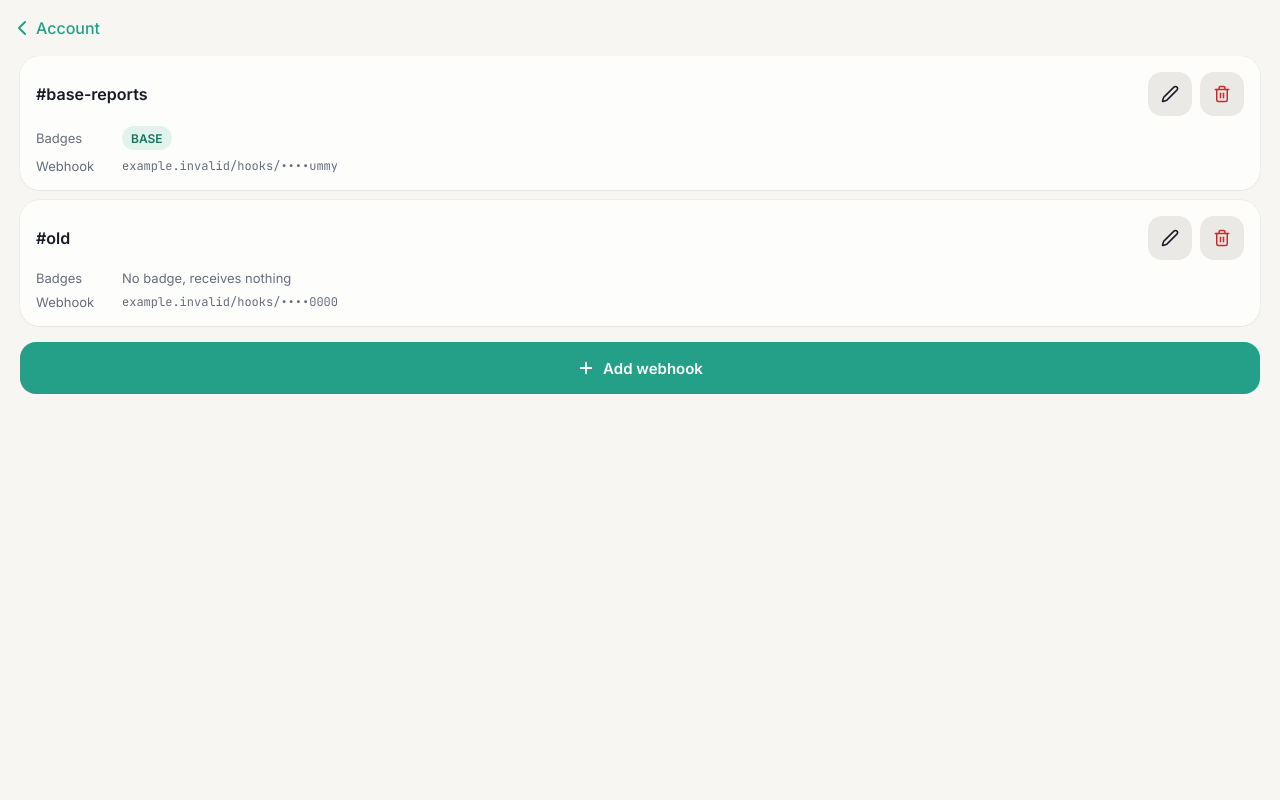
Test: the webhook sheet below md › asks for the address, the badges BASE and PSP with their lines, and a label, as the board draws them
This screenshot has width=1280, height=800.
Expected: the text "#base-reports" is shown, [36,84,148,104]
Click the button "Add webhook".
click(640, 368)  # box [20,342,1260,394]
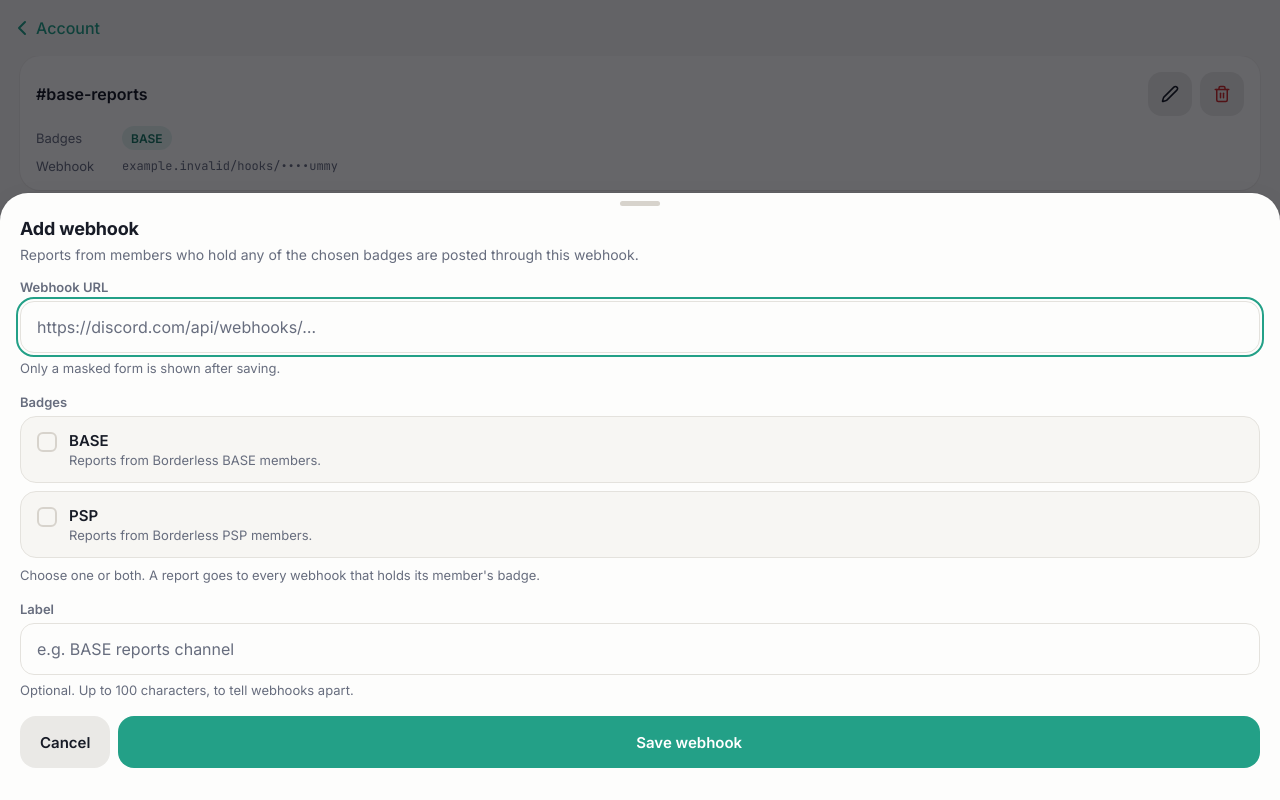
Result: the button "Cancel" is shown
Result: the button "Save webhook" is shown at [118,716,1260,768]
Click the button "Cancel".
click(65, 742)  # box [20,716,110,768]
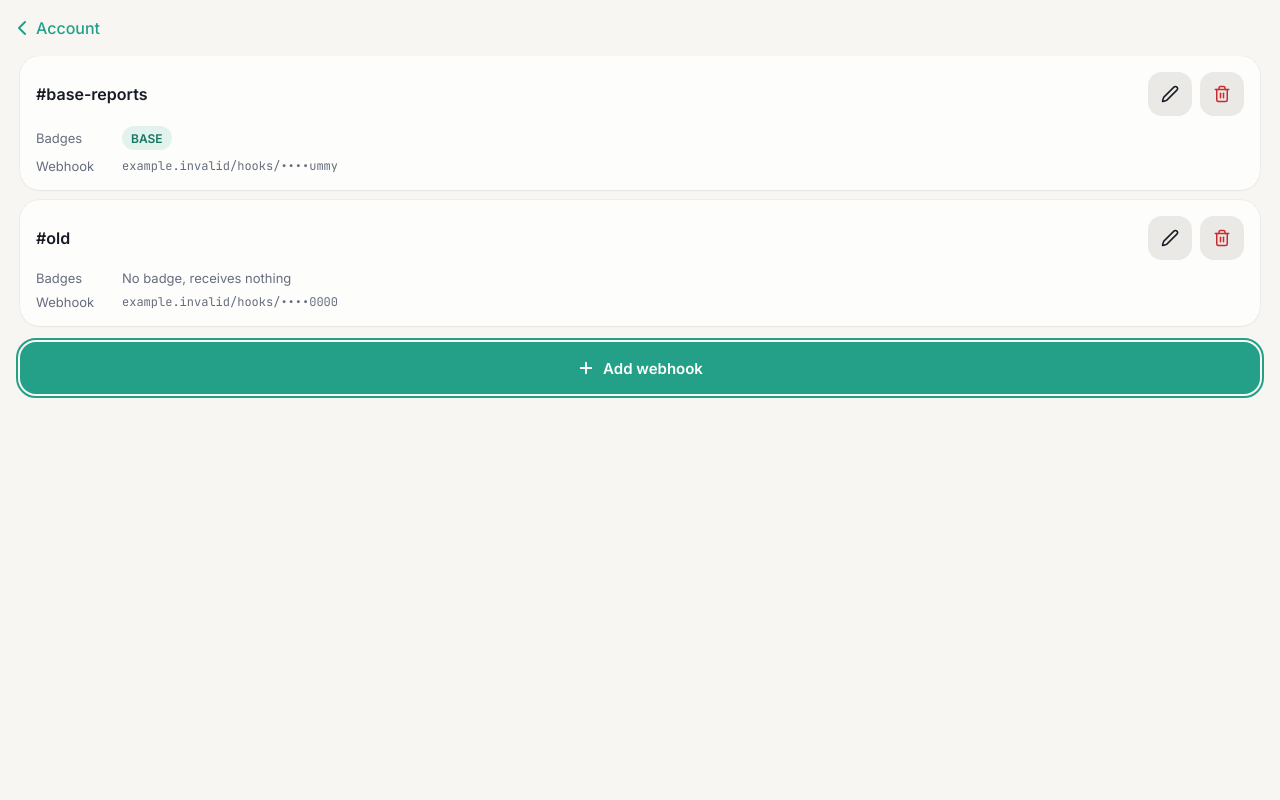
Result: the dialog is gone
